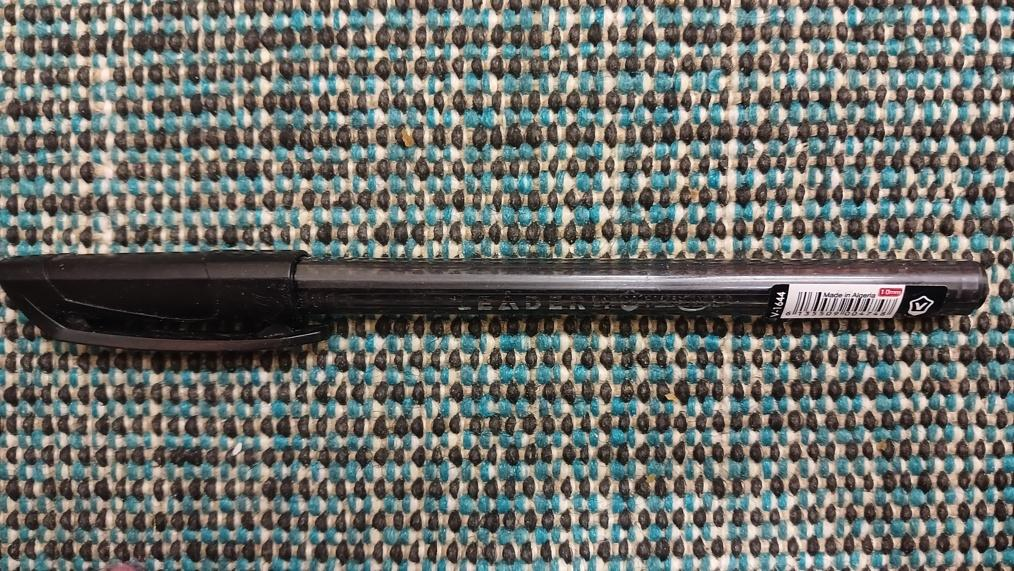pen: (0, 251, 986, 354)
